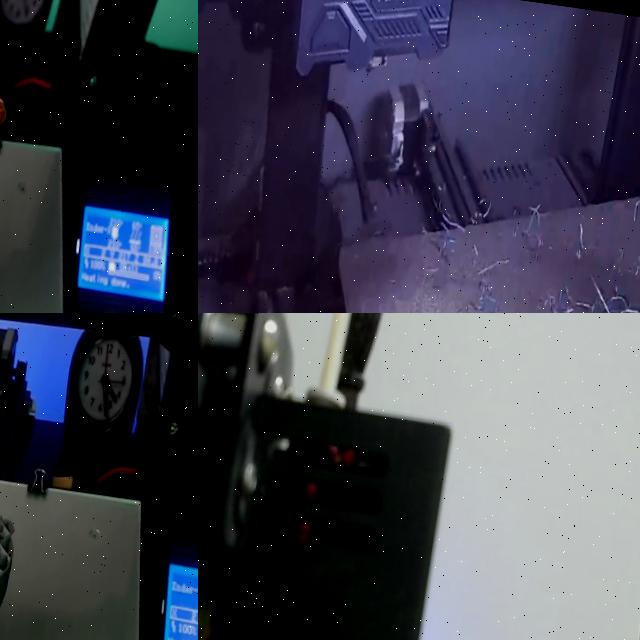spaghetti: (418, 196, 474, 270), (511, 192, 558, 273), (564, 212, 594, 268), (466, 272, 504, 313), (600, 277, 640, 313), (542, 285, 581, 313), (625, 181, 640, 237)
